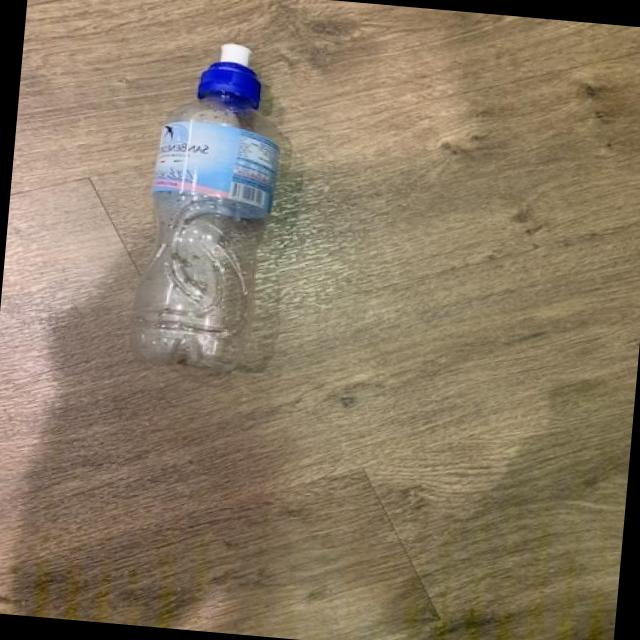BotolPlastik: (125, 34, 294, 376)
